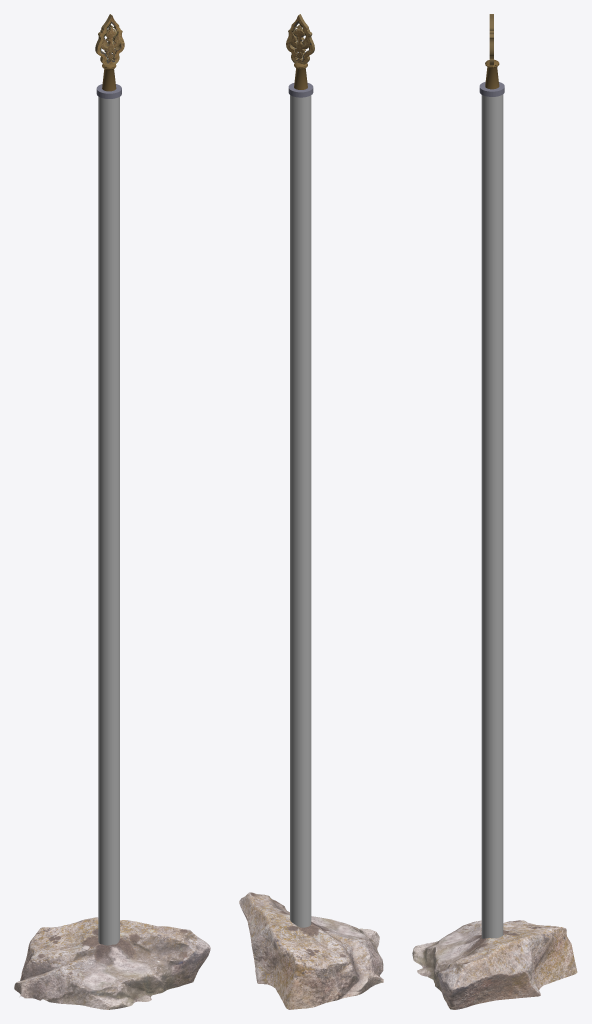
The model's file is Fahnenstange.glb.
3 views of the same model, side by side, from view 1: azimuth 30°, elevation 25°; view 2: azimuth 150°, elevation 25°; view 3: azimuth 270°, elevation 25° (orthographic).
Visible parts, largest first — view 1: Circle.006, Object_2; view 2: Circle.006, Object_2; view 3: Circle.006, Object_2.
Part boxes in pixels (box(x1,y1,x2,y2)): Circle.006: box(95, 14, 124, 945); Object_2: box(14, 917, 210, 1009); Circle.006: box(286, 14, 314, 927); Object_2: box(239, 892, 383, 1009); Circle.006: box(479, 14, 504, 938); Object_2: box(412, 920, 577, 1009).
Bounding box in the file's own units: 0.6126 × 3.38 × 0.5197.
Materials: 7 (3 with a texture image).
